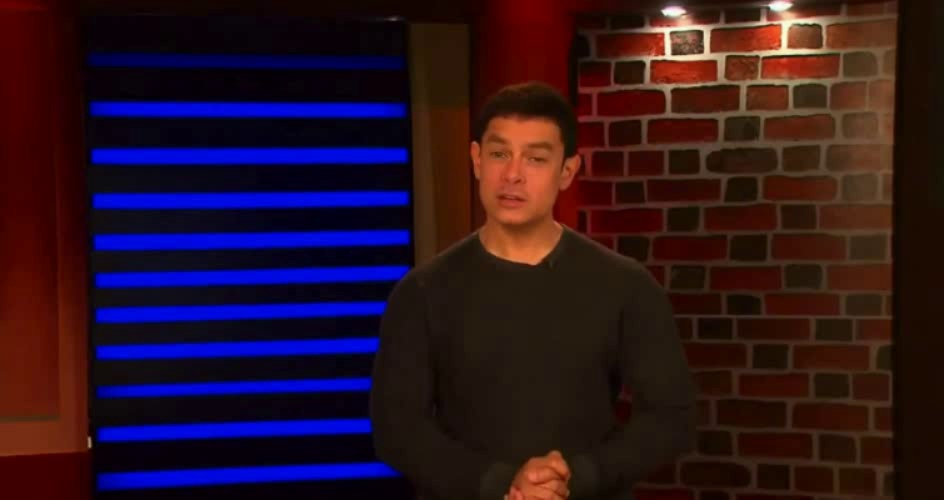fake: (477, 111, 562, 225)
